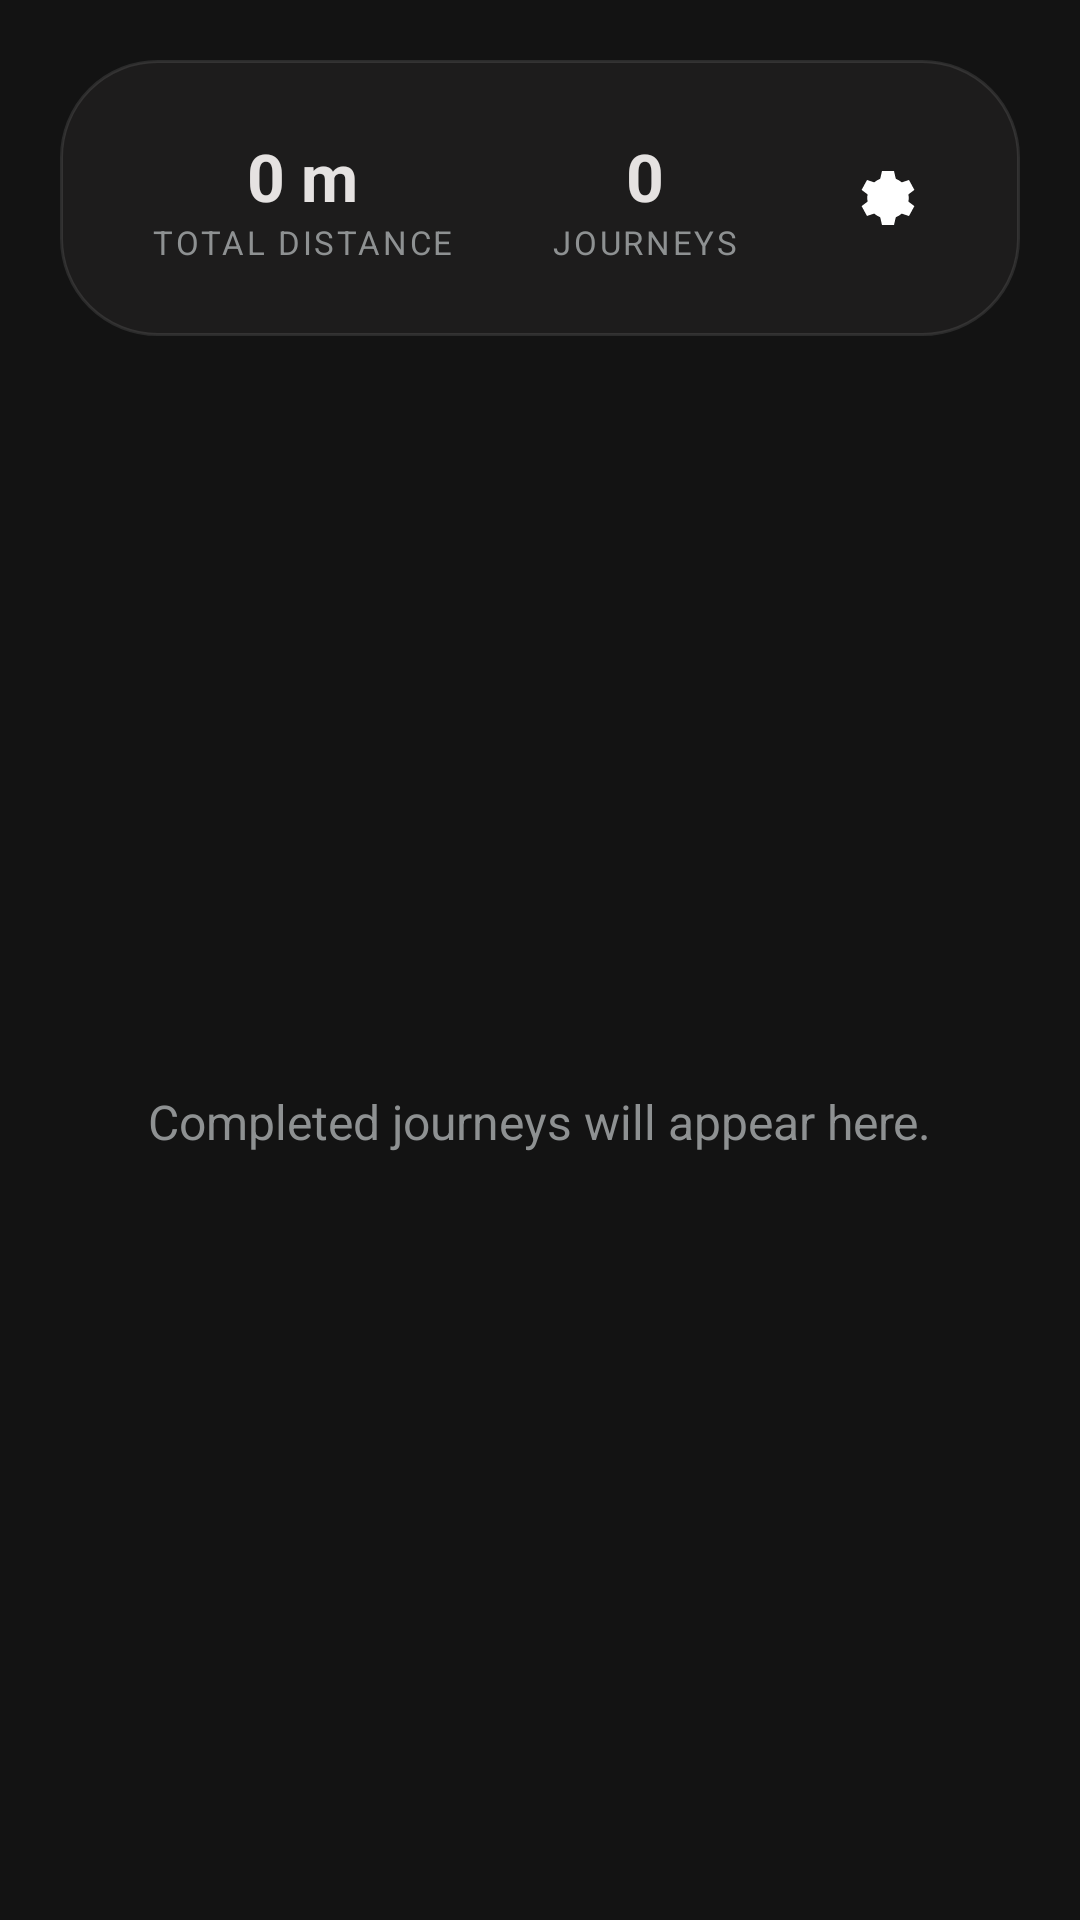

Screen size 1080*1920. Icon name, then its center in pixels as (x=x, y=y):
Settings: (x=888, y=198)
